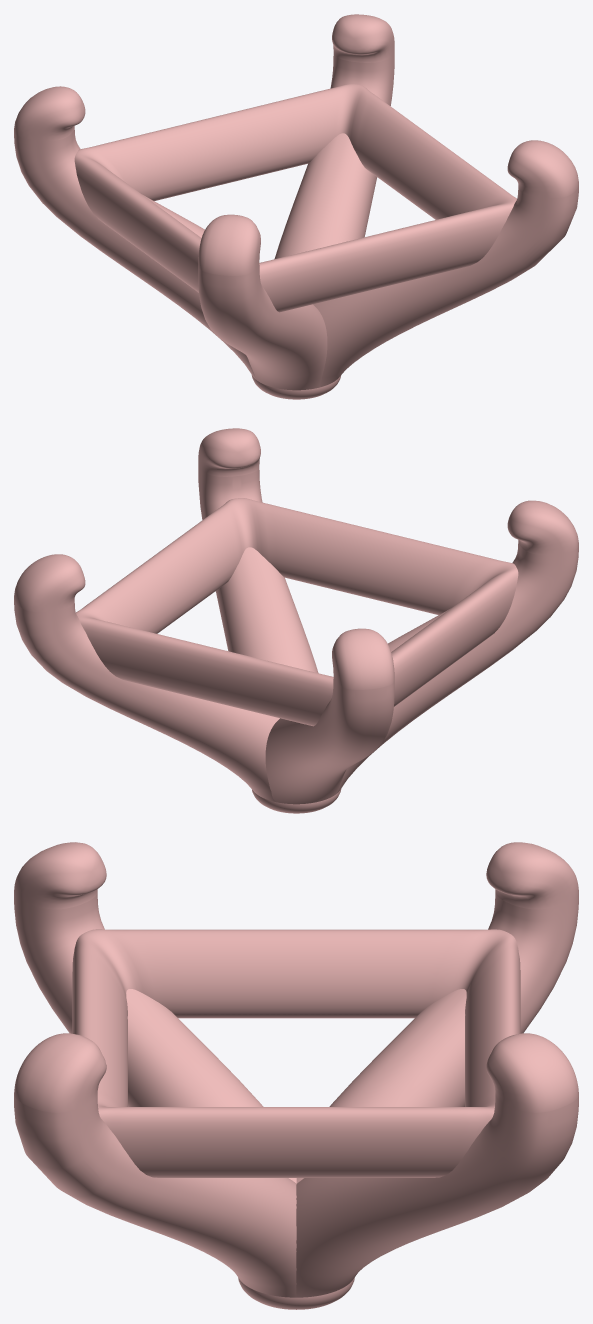
The model's file is PRINCESS.glb.
3 renders of one model, top to bottom at view 1: azimuth 30°, elevation 25°; view 2: azimuth 150°, elevation 25°; view 3: azimuth 270°, elevation 25°, orthographic. The views are drawn at different scales.
Parts seen in each view (by area): view 1: Princess; view 2: Princess; view 3: Princess.
Boxes of the visible parts, x1=… form: Princess: x1=14, y1=14, x2=578, y2=399; Princess: x1=14, y1=428, x2=578, y2=813; Princess: x1=14, y1=842, x2=578, y2=1309.
Size of the model in its own units: 6.23 by 4.31 by 6.23.
